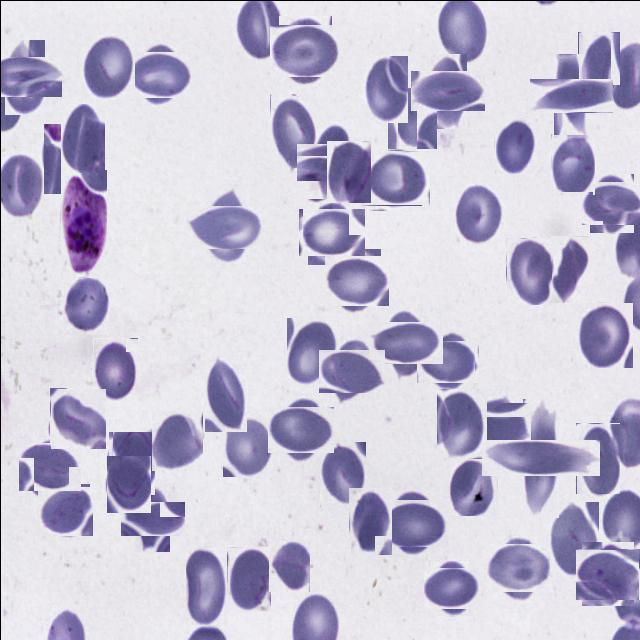red blood cell: (501, 418, 579, 496), (195, 195, 258, 258), (274, 19, 336, 81), (366, 146, 427, 208), (549, 501, 598, 576), (285, 316, 336, 386), (80, 34, 134, 100), (578, 302, 632, 367), (467, 398, 526, 457), (436, 388, 486, 457), (541, 66, 600, 124), (49, 387, 105, 448), (269, 94, 315, 168), (384, 494, 442, 552), (326, 252, 384, 310), (376, 313, 434, 371), (418, 62, 476, 120), (578, 544, 636, 602), (204, 352, 246, 431), (489, 539, 547, 596), (303, 202, 360, 260), (386, 82, 436, 148), (42, 122, 88, 193), (185, 546, 226, 624), (272, 401, 329, 457), (150, 409, 202, 470), (21, 438, 77, 494), (305, 133, 360, 190), (575, 422, 619, 493), (577, 31, 619, 105), (454, 182, 503, 245), (505, 237, 551, 304), (130, 47, 186, 102), (60, 104, 104, 174), (324, 342, 378, 398), (0, 47, 52, 105), (107, 430, 154, 494), (222, 416, 272, 476), (347, 486, 391, 554), (319, 441, 365, 506), (364, 55, 407, 122), (92, 337, 137, 400), (226, 546, 270, 610), (38, 485, 91, 537), (421, 334, 474, 386), (326, 140, 370, 202), (585, 176, 637, 228), (550, 133, 594, 194), (449, 458, 496, 515), (62, 276, 108, 334), (550, 235, 588, 302), (106, 455, 150, 512), (127, 494, 177, 544), (494, 117, 537, 173), (426, 564, 476, 612), (268, 540, 309, 591)
schizont: (60, 169, 106, 277)
